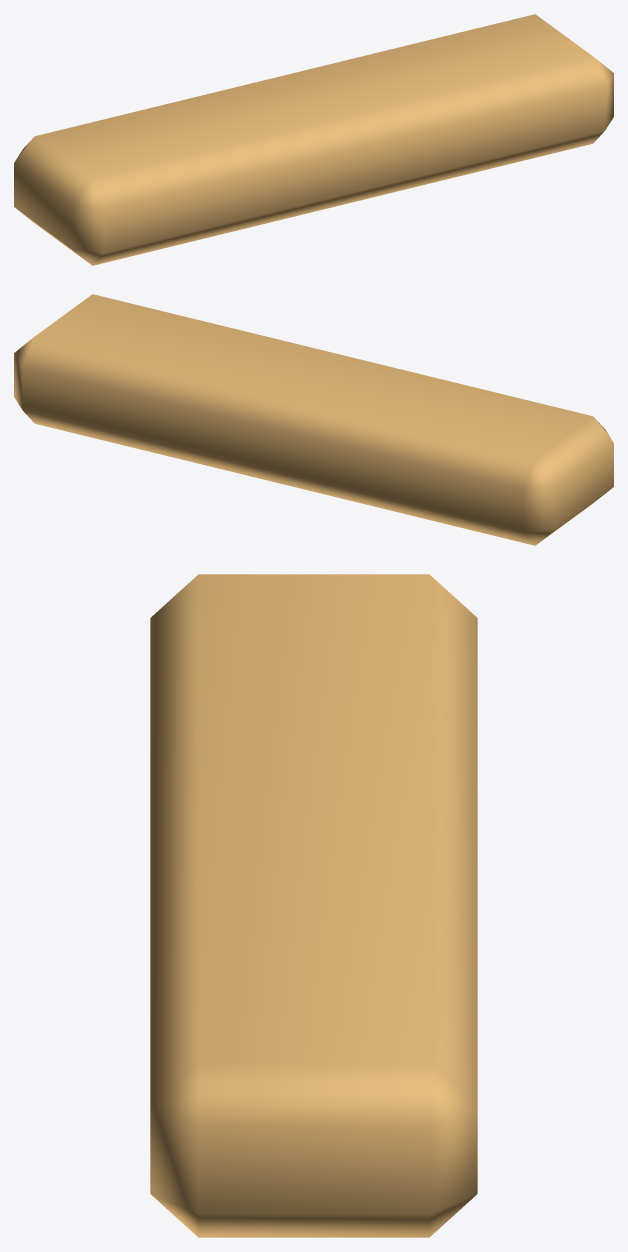
File: plank.glb
The picture shows the model from 3 angles, top to bottom: view 1: azimuth 30°, elevation 25°; view 2: azimuth 150°, elevation 25°; view 3: azimuth 270°, elevation 25°; orthographic projection. The views are drawn at different scales.
Visible parts, largest first — view 1: Plank.001; view 2: Plank.001; view 3: Plank.001.
Boxes of the visible parts, bbox=[...] form: Plank.001: bbox=[14, 14, 613, 265]; Plank.001: bbox=[14, 294, 613, 545]; Plank.001: bbox=[150, 574, 477, 1237].
Bounding box in the file's own units: 0.65 × 0.1 × 0.17.
